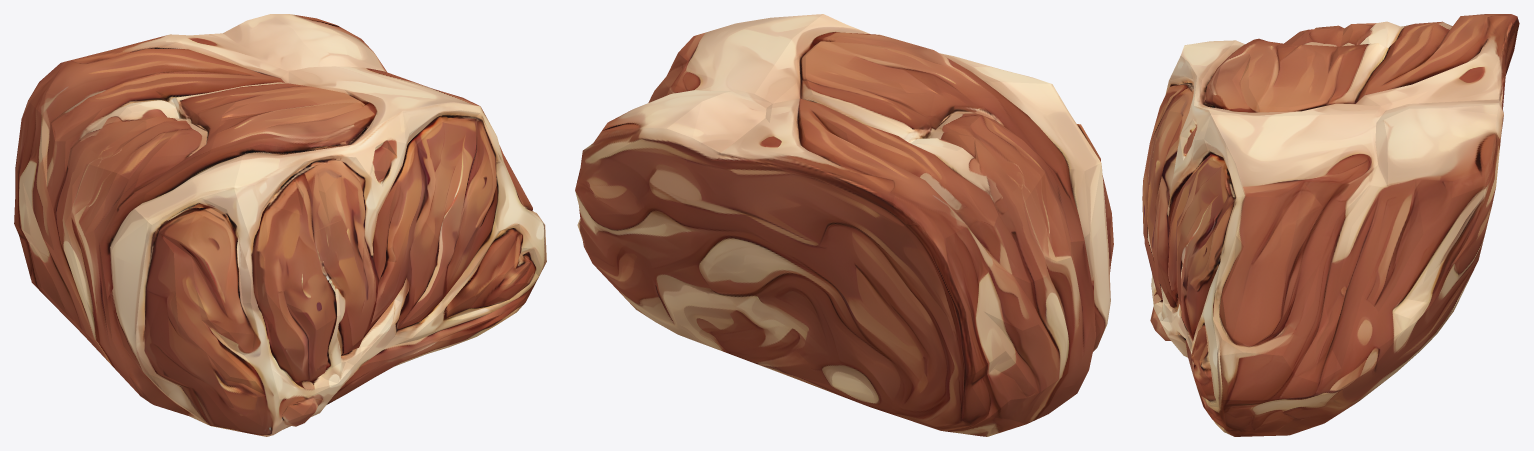
Rendered from daging.glb.
3 renders of one model, left to right at view 1: azimuth 30°, elevation 25°; view 2: azimuth 150°, elevation 25°; view 3: azimuth 270°, elevation 25°, orthographic. The views are drawn at different scales.
Parts seen in each view (by area): view 1: model; view 2: model; view 3: model.
Part boxes in pixels (x1,y1,x2,y2): model: (14, 14, 546, 436); model: (575, 14, 1113, 436); model: (1142, 14, 1519, 436).
Size of the model in its own units: 1.89 by 1.25 by 1.37.
Materials: 1 (1 with a texture image).
